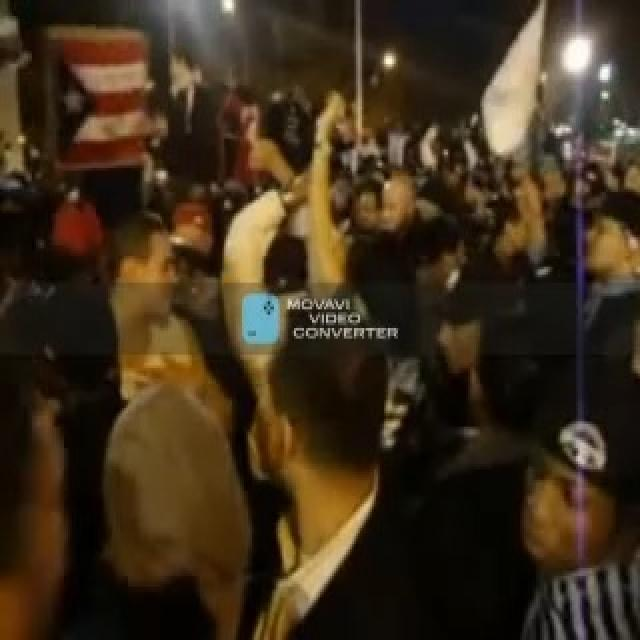non-voilence: (0, 5, 638, 638), (246, 294, 426, 638), (284, 293, 400, 344)
